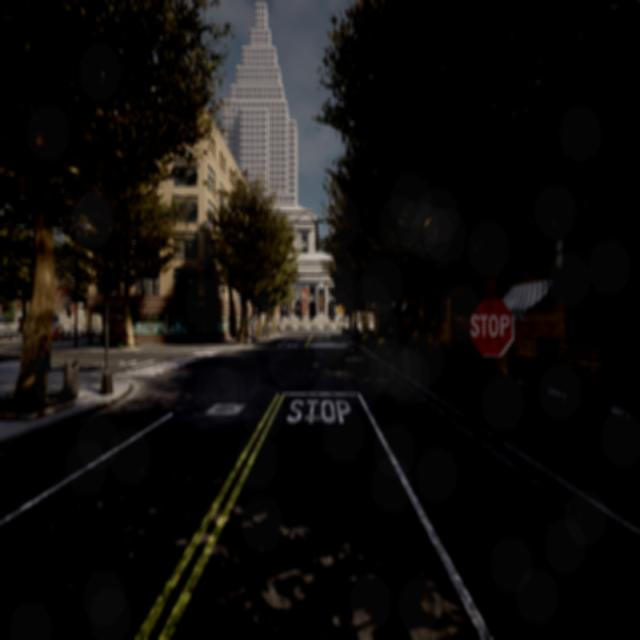stop sign: (466, 294, 516, 361), (469, 310, 511, 340)
